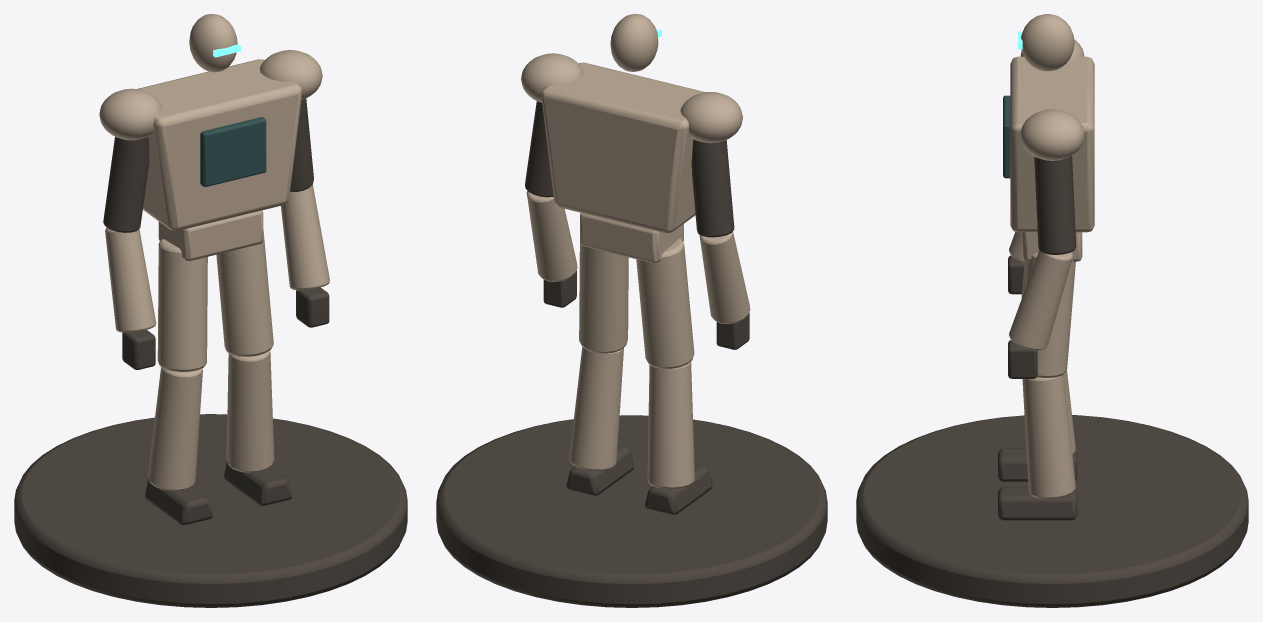
File: reliquary_frame_striker.glb
3 views of the same model, side by side, from view 1: azimuth 30°, elevation 25°; view 2: azimuth 150°, elevation 25°; view 3: azimuth 270°, elevation 25° (orthographic).
Visible parts, largest first — view 1: standin_base.009, standin_torso.009, standin_thigh_R.009, standin_shin_R.009, standin_thigh_L.009, standin_shin_L.009, standin_forearm_R.009, tp.009, standin_forearm_L.009, standin_arm_R.009, standin_pelvis.009, standin_pauldron_R.009 (+7 smaller); view 2: standin_base.009, standin_torso.009, standin_thigh_R.009, standin_shin_R.009, standin_shin_L.009, standin_thigh_L.009, standin_arm_R.009, standin_forearm_R.009, standin_forearm_L.009, standin_pelvis.009, standin_pauldron_R.009, standin_helm.009 (+6 smaller); view 3: standin_base.009, standin_torso.009, standin_shin_L.009, standin_forearm_L.009, standin_arm_L.009, standin_pauldron_L.009, standin_helm.009, standin_thigh_L.009, standin_foot_L.009, standin_foot_R.009, standin_hand_L.009, standin_pelvis.009 (+2 smaller).
Part boxes in pixels (<box>): standin_base.009: <box>14,414,407,607</box>; standin_torso.009: <box>137,59,302,230</box>; standin_thigh_R.009: <box>157,239,207,371</box>; standin_shin_R.009: <box>148,367,202,490</box>; standin_thigh_L.009: <box>216,230,273,356</box>; standin_shin_L.009: <box>226,350,274,472</box>; standin_forearm_R.009: <box>105,228,156,332</box>; tp.009: <box>200,117,266,186</box>; standin_forearm_L.009: <box>281,184,329,290</box>; standin_arm_R.009: <box>103,136,149,232</box>; standin_pelvis.009: <box>158,210,263,261</box>; standin_pauldron_R.009: <box>99,88,161,140</box>; standin_base.009: <box>436,415,827,607</box>; standin_torso.009: <box>541,62,705,233</box>; standin_thigh_R.009: <box>636,238,694,368</box>; standin_shin_R.009: <box>647,361,694,489</box>; standin_shin_L.009: <box>569,347,623,471</box>; standin_thigh_L.009: <box>579,243,628,353</box>; standin_arm_R.009: <box>691,139,734,237</box>; standin_forearm_R.009: <box>699,232,750,324</box>; standin_forearm_L.009: <box>526,191,577,281</box>; standin_pelvis.009: <box>580,213,683,263</box>; standin_pauldron_R.009: <box>680,92,742,143</box>; standin_helm.009: <box>610,14,658,71</box>; standin_base.009: <box>856,415,1248,607</box>; standin_torso.009: <box>1010,56,1094,232</box>; standin_shin_L.009: <box>1022,374,1075,499</box>; standin_forearm_L.009: <box>1009,250,1072,350</box>; standin_arm_L.009: <box>1034,156,1076,254</box>; standin_pauldron_L.009: <box>1020,109,1084,160</box>; standin_helm.009: <box>1021,14,1074,71</box>; standin_thigh_L.009: <box>1024,253,1075,377</box>; standin_foot_L.009: <box>998,487,1077,520</box>; standin_foot_R.009: <box>998,448,1077,481</box>; standin_hand_L.009: <box>1008,340,1037,378</box>; standin_pelvis.009: <box>1022,232,1082,261</box>.
Size of the model in its own units: 32 by 46.08 by 32.
